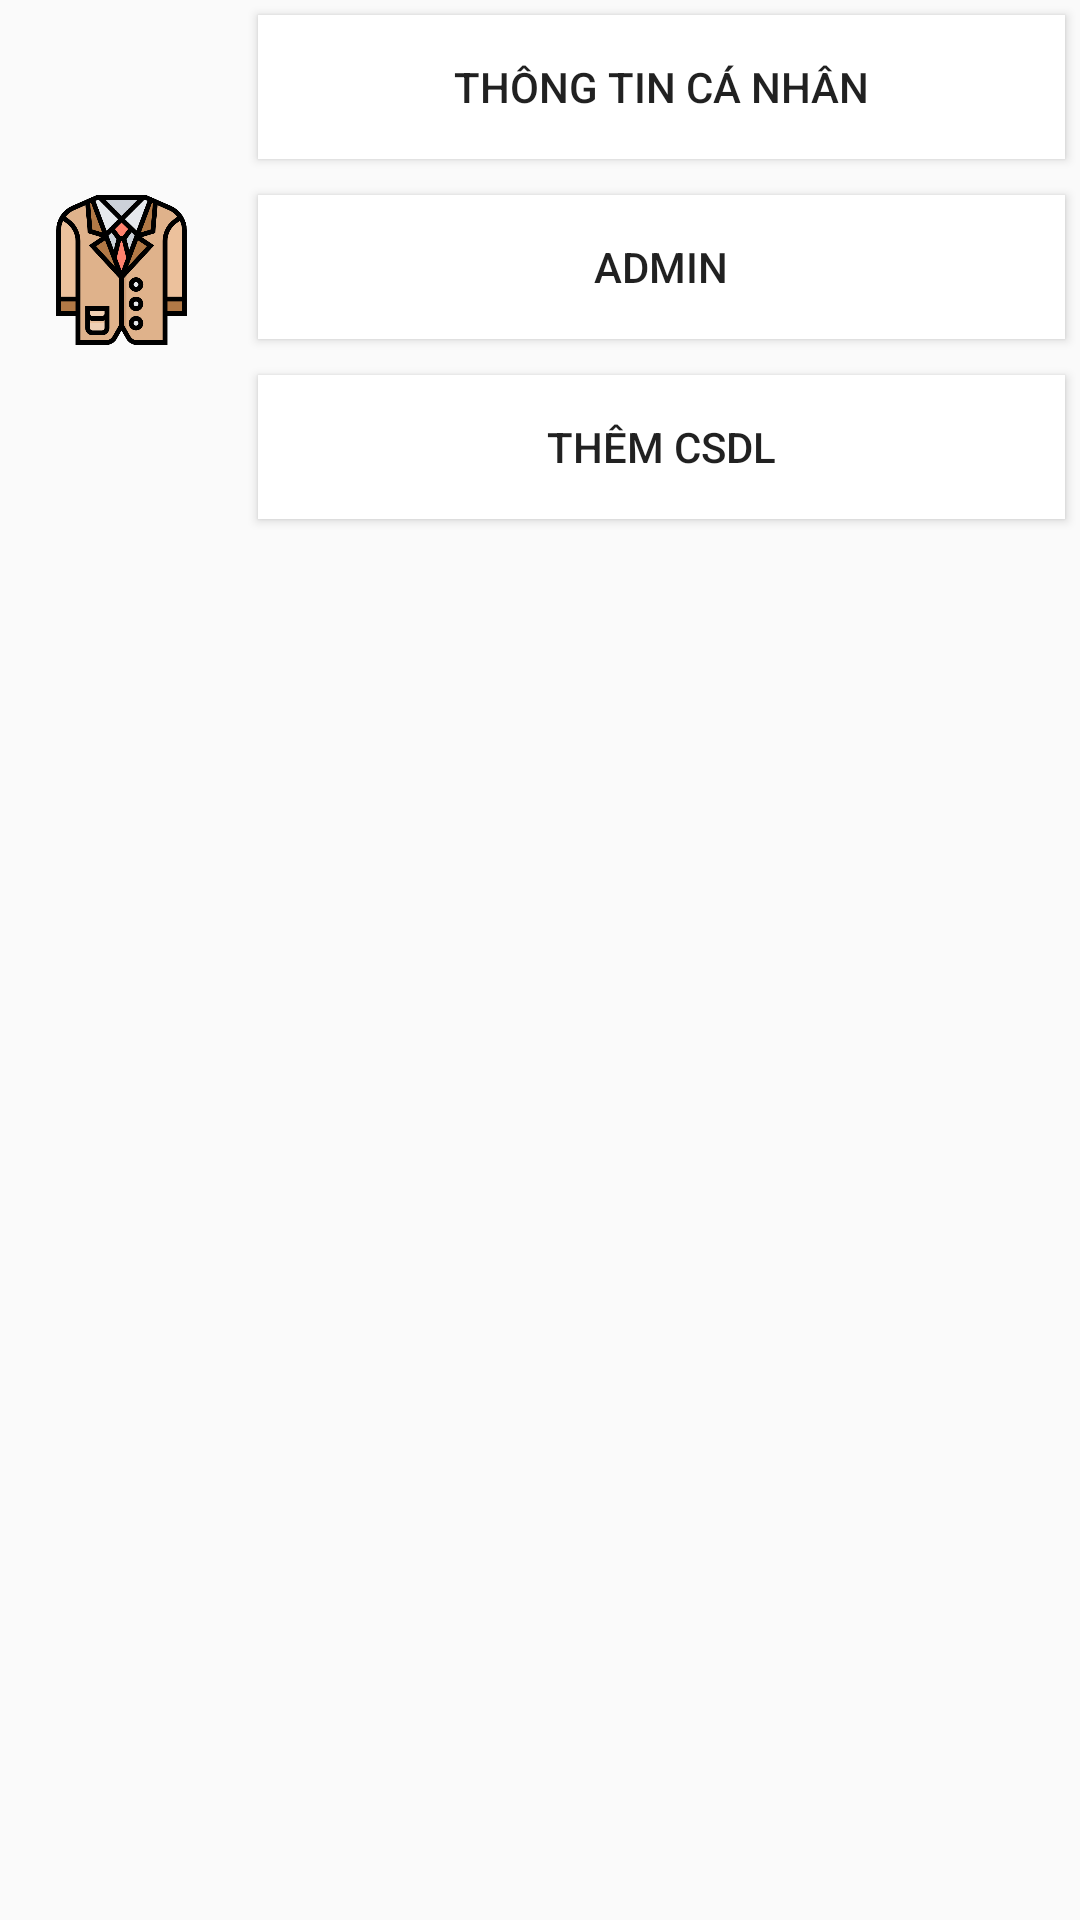

Icon click points for this 1080w x 1920h phone screenshot, format (x=x, y=y):
suit: (x=121, y=270)
